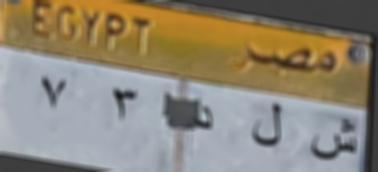3: (111, 81, 141, 126)
7: (39, 68, 70, 116)
daal: (190, 100, 217, 138)
laam: (249, 97, 286, 150)
sheen: (308, 116, 360, 164)
